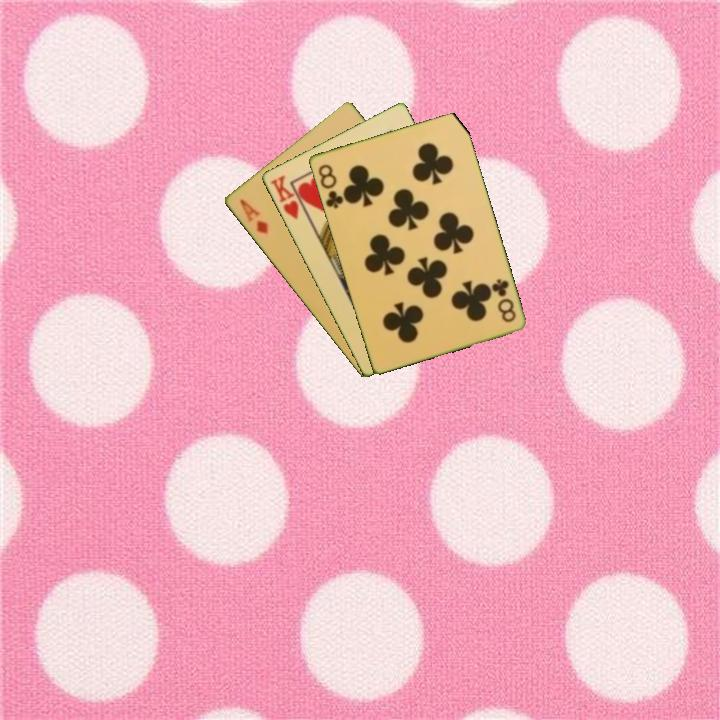8c: (314, 160, 348, 211), (488, 275, 518, 325)
Ad: (235, 195, 271, 238)
Kh: (267, 171, 310, 222)
